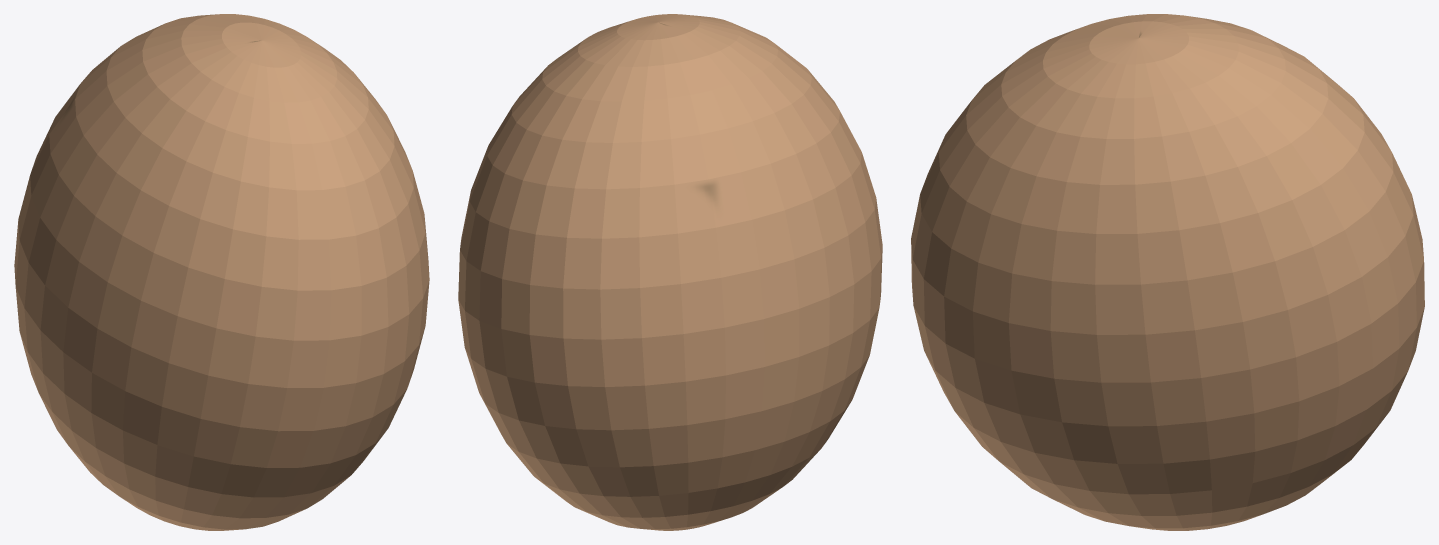
Rendered from ManoIzq_Bulls.obj.
3 renders of one model, left to right at view 1: azimuth 30°, elevation 25°; view 2: azimuth 150°, elevation 25°; view 3: azimuth 270°, elevation 25°, orthographic. The views are drawn at different scales.
Parts seen in each view (by area): view 1: ManoIzq_Bulls; view 2: ManoIzq_Bulls; view 3: ManoIzq_Bulls.
Boxes of the visible parts, x1,y1,x2,y2 form: ManoIzq_Bulls: (14, 14, 429, 530); ManoIzq_Bulls: (458, 14, 882, 530); ManoIzq_Bulls: (911, 14, 1424, 530).
Size of the model in its own units: 0.7547 by 0.9977 by 0.9322.
Materials: 1 (1 with a texture image).
